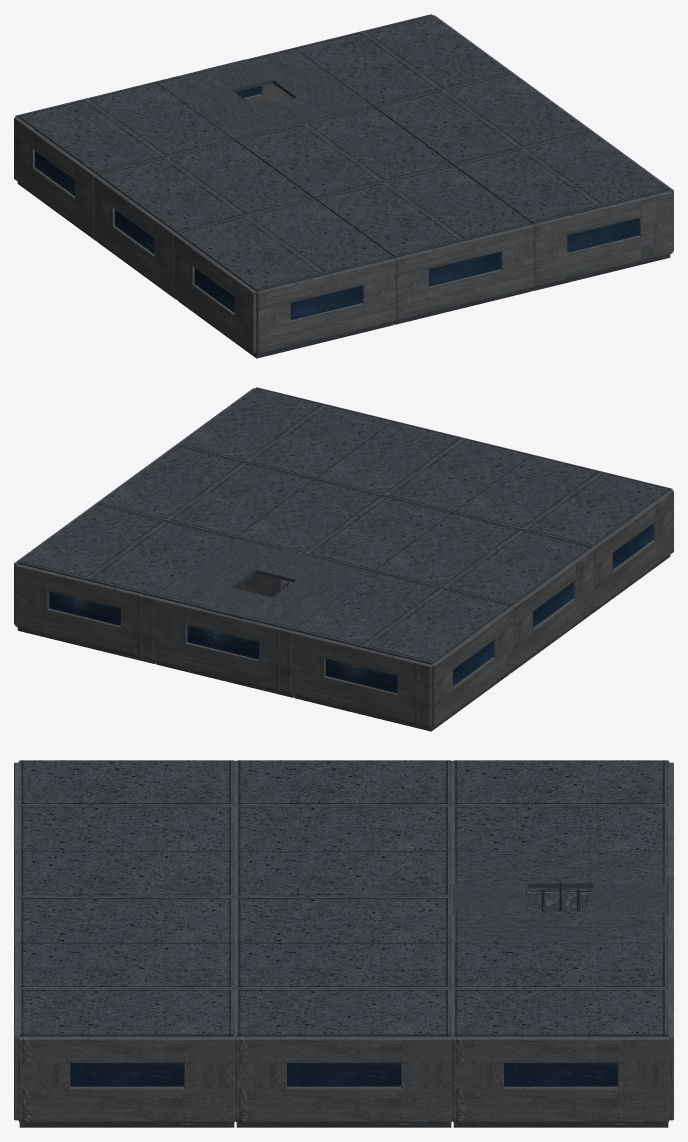
Rendered from netshooter_house.glb.
3 renders of one model, top to bottom at view 1: azimuth 30°, elevation 25°; view 2: azimuth 150°, elevation 25°; view 3: azimuth 270°, elevation 25°, orthographic. The views are drawn at different scales.
Parts seen in each view (by area): view 1: F1_Room_11_ceiling, F1_Room_31_ceiling, F1_Room_21_ceiling, F1_Room_13_ceiling, F1_Room_12_ceiling, F1_Room_22_ceiling, F1_Room_32_ceiling, F1_Room_33_ceiling, F1_north_hatch_side.001, F1_north_hatch_side, F1_facade_lower.006, F1_facade_lower.007 (+33 smaller); view 2: F1_Room_13_ceiling, F1_Room_33_ceiling, F1_Room_11_ceiling, F1_Room_12_ceiling, F1_Room_31_ceiling, F1_Room_21_ceiling, F1_Room_32_ceiling, F1_Room_22_ceiling, F1_north_hatch_side.001, F1_north_hatch_side, F1_facade_lower.009, F1_facade_lower.011 (+32 smaller); view 3: F1_Room_31_ceiling, F1_Room_32_ceiling, F1_Room_33_ceiling, F1_Room_11_ceiling, F1_Room_12_ceiling, F1_Room_13_ceiling, F1_Room_21_ceiling, F1_Room_22_ceiling, F1_facade_lower.003, F1_facade_lower.004, F1_facade_lower.005, F1_north_hatch_side (+23 smaller).
Part boxes in pixels (x1=…): F1_Room_11_ceiling: x1=177, y1=199, x2=393, y2=291; F1_Room_31_ceiling: x1=454, y1=131, x2=670, y2=223; F1_Room_21_ceiling: x1=316, y1=165, x2=531, y2=257; F1_Room_13_ceiling: x1=17, y1=82, x2=233, y2=174; F1_Room_12_ceiling: x1=97, y1=140, x2=313, y2=232; F1_Room_22_ceiling: x1=236, y1=106, x2=451, y2=199; F1_Room_32_ceiling: x1=374, y1=73, x2=590, y2=165; F1_Room_33_ceiling: x1=294, y1=14, x2=510, y2=106; F1_north_hatch_side.001: x1=245, y1=48, x2=372, y2=117; F1_north_hatch_side: x1=155, y1=70, x2=282, y2=140; F1_facade_lower.006: x1=256, y1=296, x2=395, y2=354; F1_facade_lower.007: x1=396, y1=263, x2=534, y2=320; F1_Room_13_ceiling: x1=294, y1=572, x2=510, y2=664; F1_Room_33_ceiling: x1=17, y1=504, x2=233, y2=596; F1_Room_11_ceiling: x1=454, y1=455, x2=670, y2=547; F1_Room_12_ceiling: x1=374, y1=513, x2=590, y2=605; F1_Room_31_ceiling: x1=177, y1=387, x2=393, y2=479; F1_Room_21_ceiling: x1=316, y1=421, x2=531, y2=513; F1_Room_32_ceiling: x1=97, y1=446, x2=313, y2=537; F1_Room_22_ceiling: x1=236, y1=479, x2=451, y2=571; F1_north_hatch_side.001: x1=155, y1=538, x2=282, y2=608; F1_north_hatch_side: x1=245, y1=560, x2=372, y2=630; F1_facade_lower.009: x1=292, y1=669, x2=431, y2=727; F1_facade_lower.011: x1=15, y1=602, x2=153, y2=659; F1_Room_31_ceiling: x1=19, y1=943, x2=234, y2=1036; F1_Room_32_ceiling: x1=236, y1=943, x2=451, y2=1036; F1_Room_33_ceiling: x1=453, y1=943, x2=668, y2=1036; F1_Room_11_ceiling: x1=19, y1=760, x2=234, y2=851; F1_Room_12_ceiling: x1=236, y1=760, x2=451, y2=851; F1_Room_13_ceiling: x1=453, y1=760, x2=668, y2=851; F1_Room_21_ceiling: x1=19, y1=852, x2=234, y2=943; F1_Room_22_ceiling: x1=236, y1=852, x2=451, y2=943; F1_facade_lower.003: x1=18, y1=1086, x2=235, y2=1122; F1_facade_lower.004: x1=235, y1=1086, x2=452, y2=1122; F1_facade_lower.005: x1=452, y1=1086, x2=669, y2=1122; F1_north_hatch_side: x1=453, y1=851, x2=668, y2=887.
Size of the model in its own units: 24.35 by 3.92 by 24.35.
9 materials, 5 textured.
